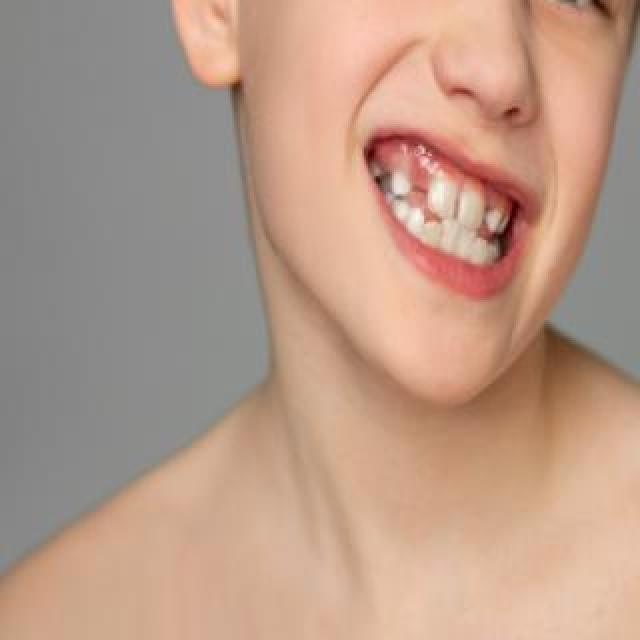maligned: (421, 216, 443, 252)
missing: (405, 175, 431, 207)
